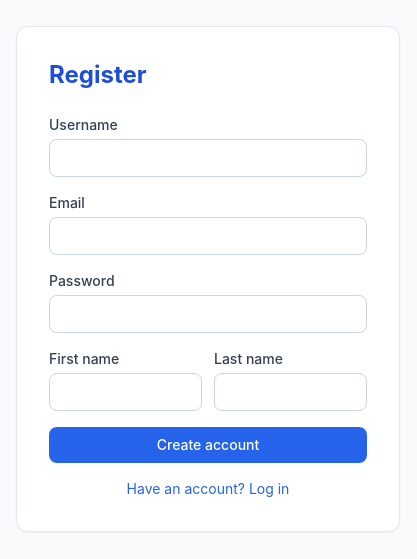
Register form › rejects short password
Type "newuser" into the field labelled "Username".
click(208, 158); type("newuser")  # box [49,139,367,177]
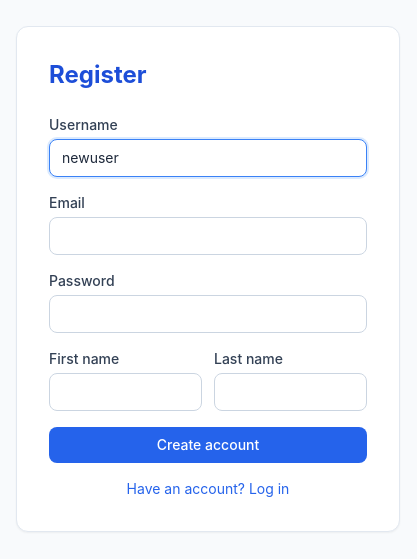
Type "new@pms.local" into the field labelled "Email".
click(208, 236); type("new@pms.local")  # box [49,217,367,255]
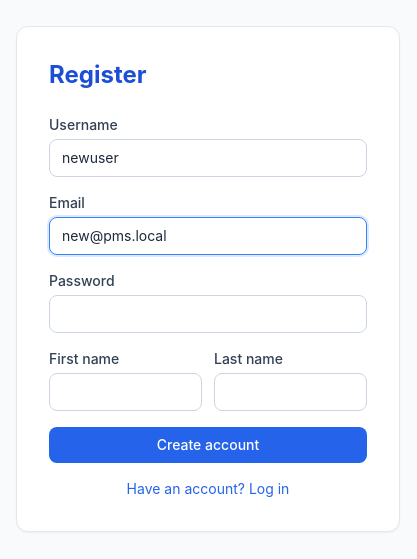
Type "short" into the password field labelled "Password".
click(208, 314); type("short")  # box [49,295,367,333]
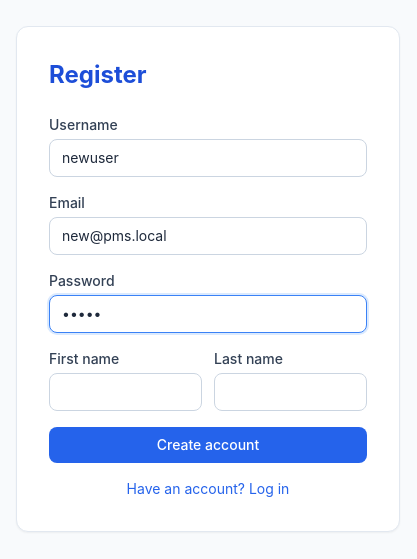
Click the button "Create account".
click(208, 445)  # box [49,427,367,463]
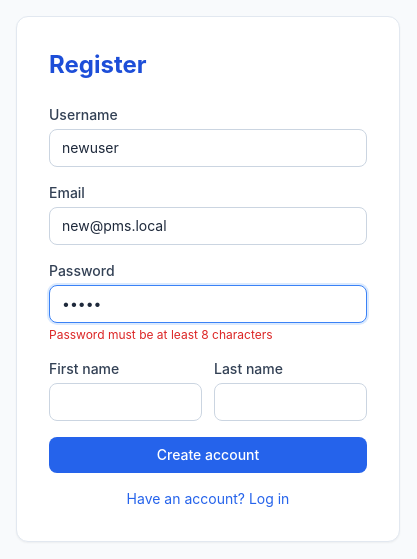
Now the text "Password must be at least 8 characters" is shown, box [49,327,273,342]
